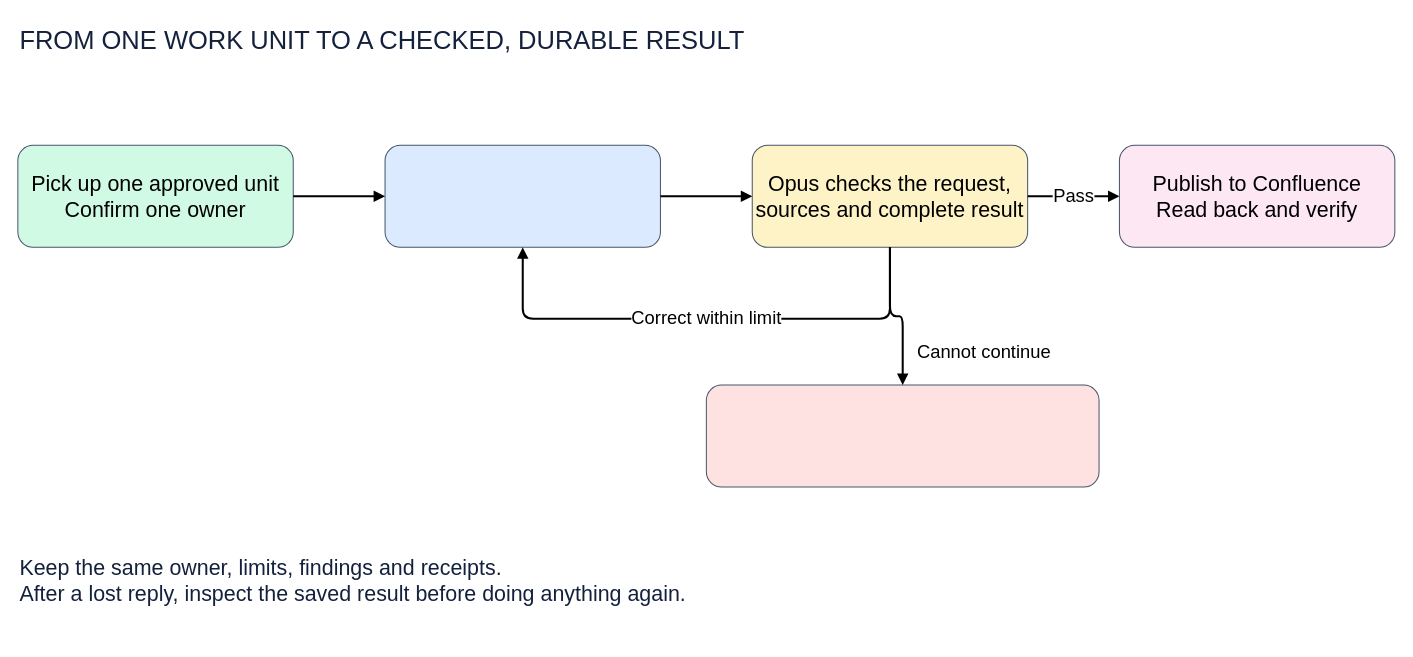
Some shapes in this 1413 by 657 pixel diagram are drawn without their labels. The centre of each missing label's shape, as x and y in pixels:
Codex produces or corrects the work: the point at 522,195
Stop when limits, evidence or authority do not permit more: the point at 902,435
